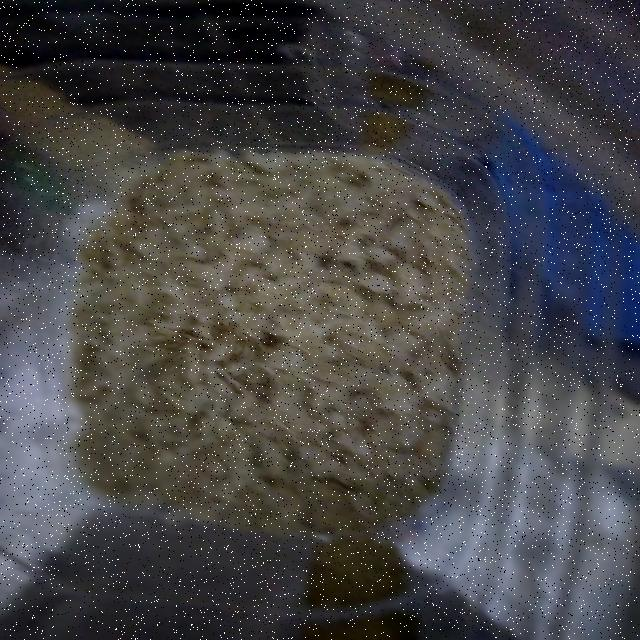Beaten Rice: (125, 188, 424, 472)
